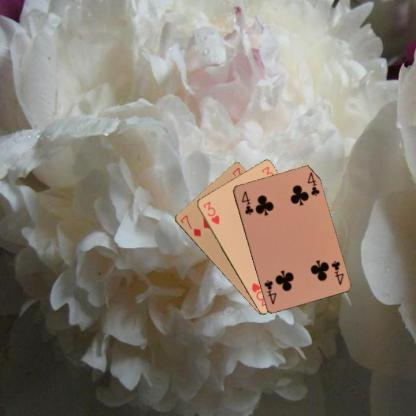3h: (200, 199, 221, 226)
4c: (238, 188, 254, 216), (328, 258, 344, 286)
7d: (178, 212, 202, 238)
